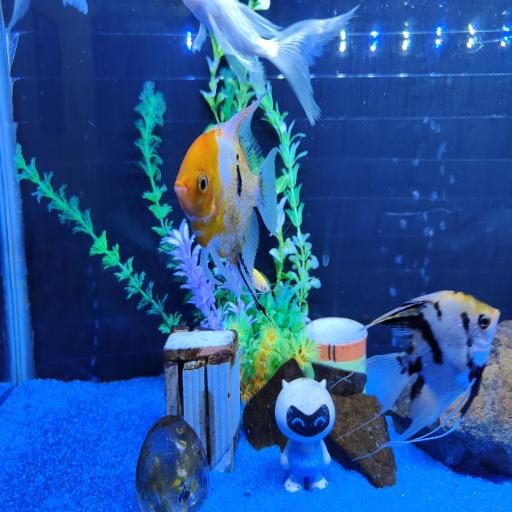Fish: (175, 94, 277, 312), (184, 0, 358, 125), (365, 291, 499, 448), (7, 0, 30, 32), (253, 268, 270, 292)
